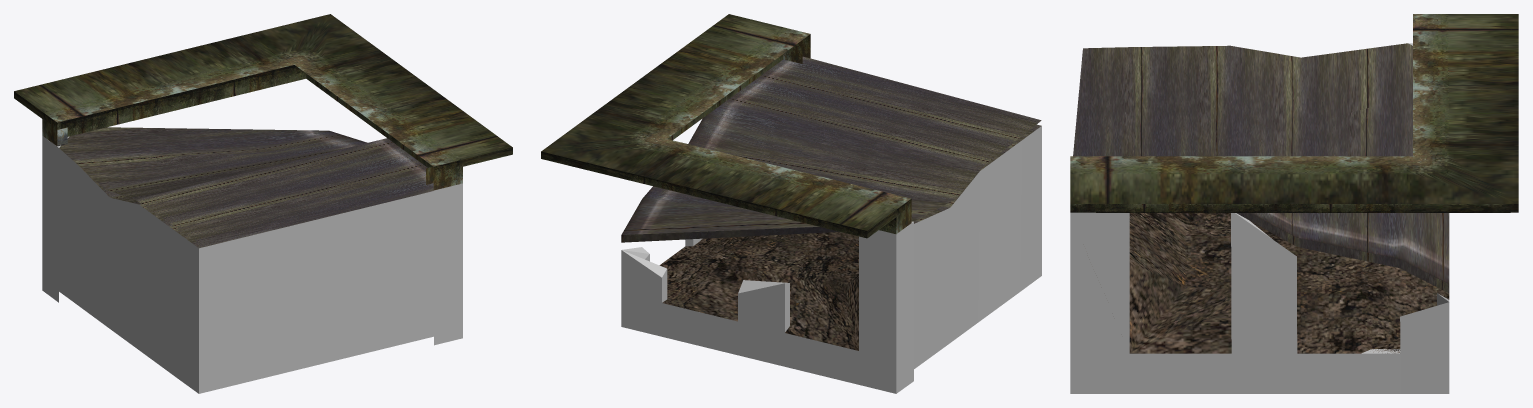
Rendered from Store_front_7_E.fbx.
3 views of the same model, side by side, from view 1: azimuth 30°, elevation 25°; view 2: azimuth 150°, elevation 25°; view 3: azimuth 270°, elevation 25° (orthographic). The views are drawn at different scales.
Visible parts, largest first — view 1: Store_front_7_E; view 2: Store_front_7_E; view 3: Store_front_7_E.
Boxes of the visible parts, <box> form: Store_front_7_E: <box>14,14,512,393</box>; Store_front_7_E: <box>541,14,1041,393</box>; Store_front_7_E: <box>1070,14,1518,393</box>.
Size of the model in its own units: 802 by 433 by 800.
